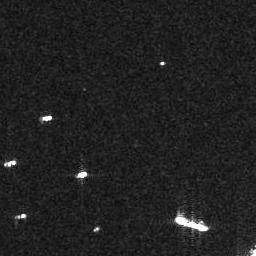ship: (174, 215, 209, 233), (3, 158, 17, 168), (40, 114, 52, 122), (77, 171, 88, 179), (16, 212, 26, 219), (159, 61, 166, 66)
